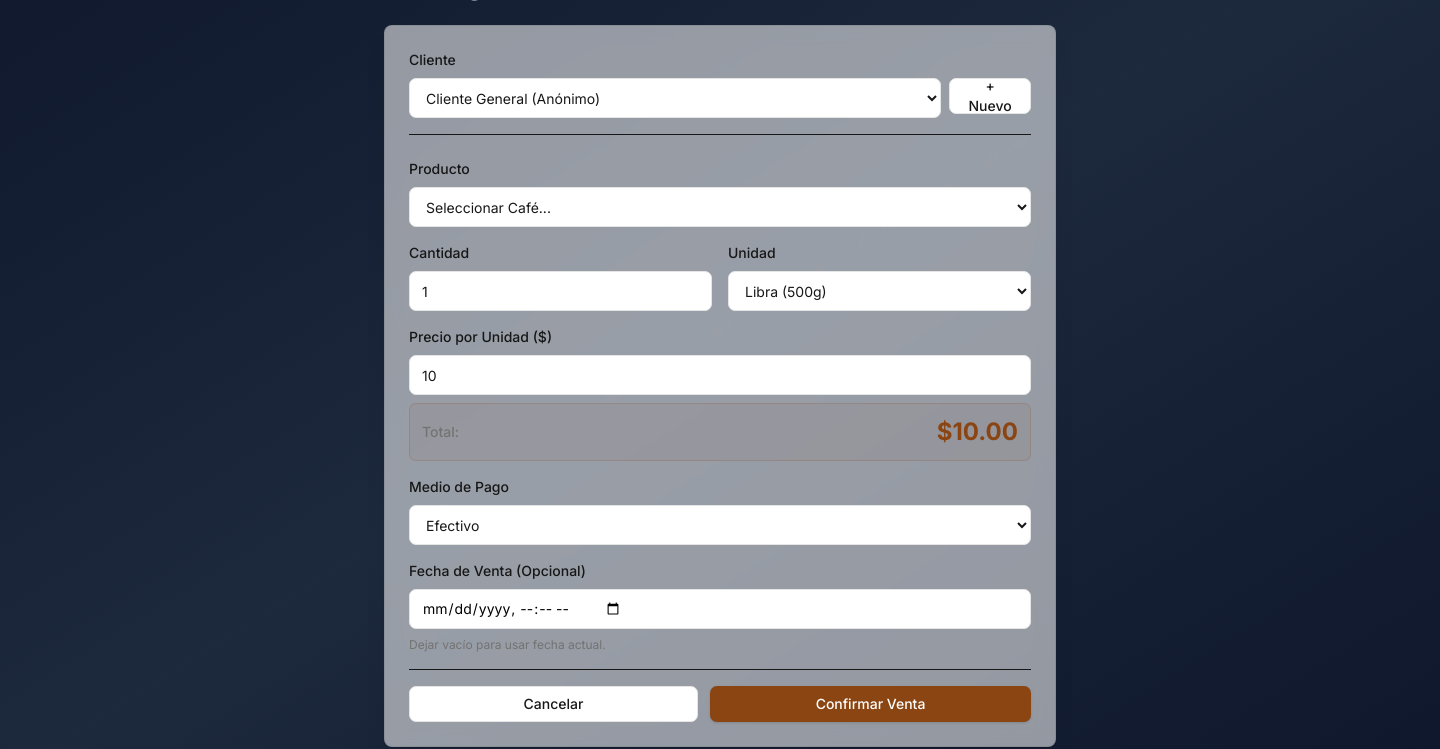
Scenario: NuevaVentaPage › Form Validation › should show error when no product selected
(page scrolled)
Click the button "Confirmar Venta": (870, 704) top-left (710, 686), bottom-right (1031, 722)
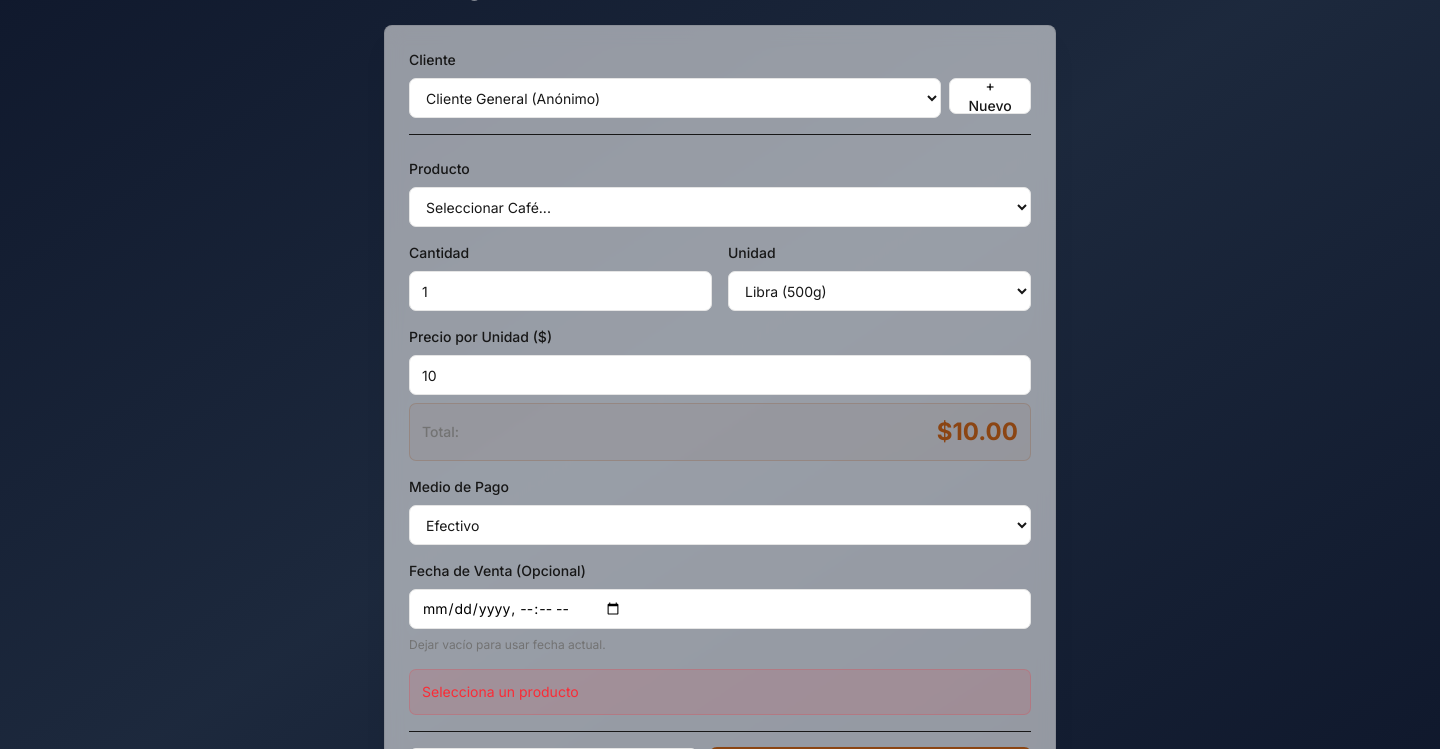
Now the text "Selecciona un producto" is shown, box top-left (409, 669), bottom-right (1031, 715)
